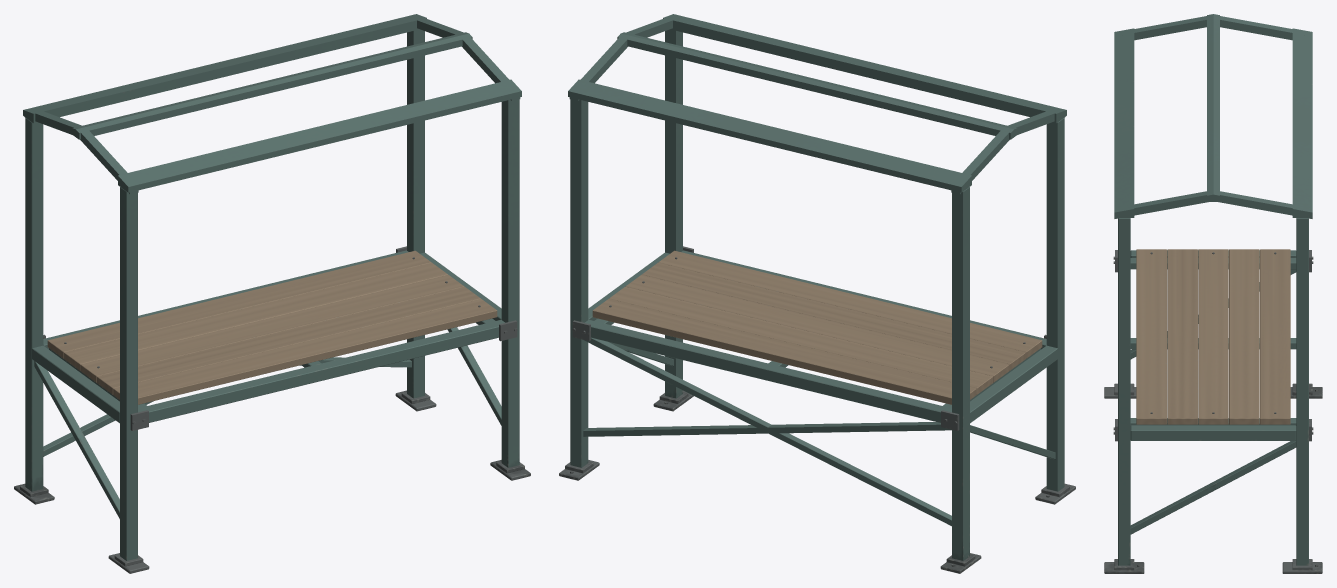
Rendered from market_stall_empty.glb.
3 views of the same model, side by side, from view 1: azimuth 30°, elevation 25°; view 2: azimuth 150°, elevation 25°; view 3: azimuth 270°, elevation 25° (orthographic). The views are drawn at different scales.
Parts seen in each view (by area): view 1: MarketStallEmpty; view 2: MarketStallEmpty; view 3: MarketStallEmpty.
Boxes of the visible parts, box(x1,y1,x2,y2) form: MarketStallEmpty: box(14, 14, 530, 573); MarketStallEmpty: box(559, 14, 1075, 573); MarketStallEmpty: box(1104, 14, 1322, 573).
Size of what is drawn, in the model's own units: 2.4 by 2.29 by 1.2.
Materials: 1 (1 with a texture image).
